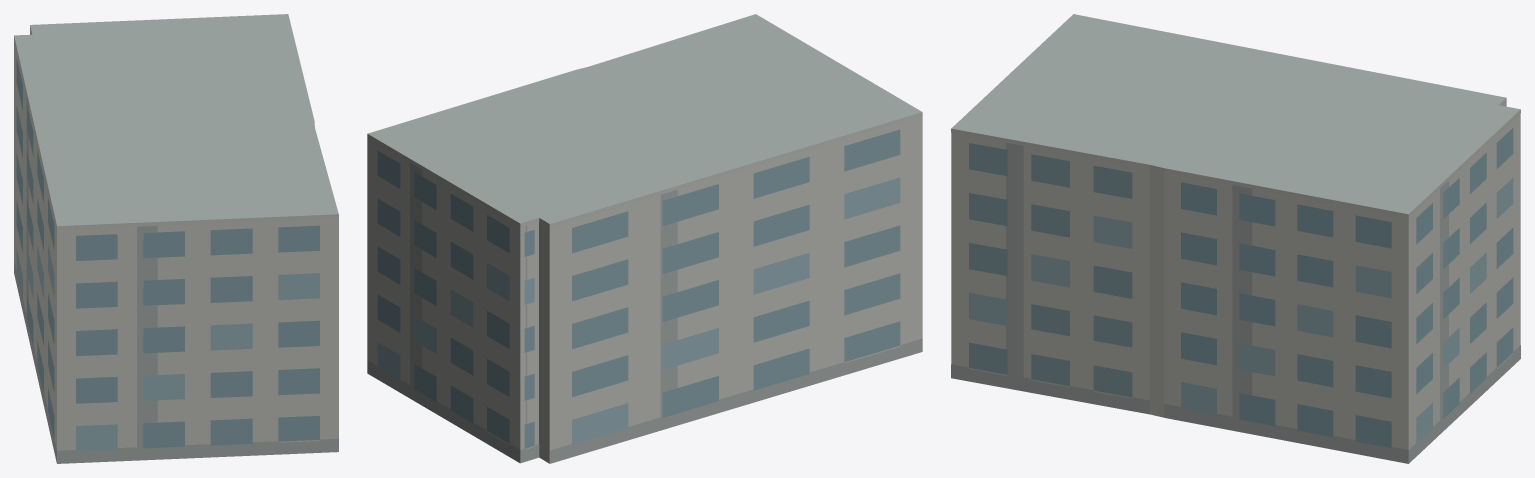
Rendered from survey-upis-32826796.glb.
The picture shows the model from 3 angles, left to right: view 1: azimuth 30°, elevation 25°; view 2: azimuth 150°, elevation 25°; view 3: azimuth 270°, elevation 25°; orthographic projection. The views are drawn at different scales.
Visible parts, largest first — view 1: survey-upis-32826796.tmp; view 2: survey-upis-32826796.tmp; view 3: survey-upis-32826796.tmp.
Boxes of the visible parts, x1,y1,x2,y2 form: survey-upis-32826796.tmp: (14,14,338,463); survey-upis-32826796.tmp: (367,14,922,463); survey-upis-32826796.tmp: (951,14,1520,463).
Size of the model in its own units: 25.99 by 15.1 by 31.24.
